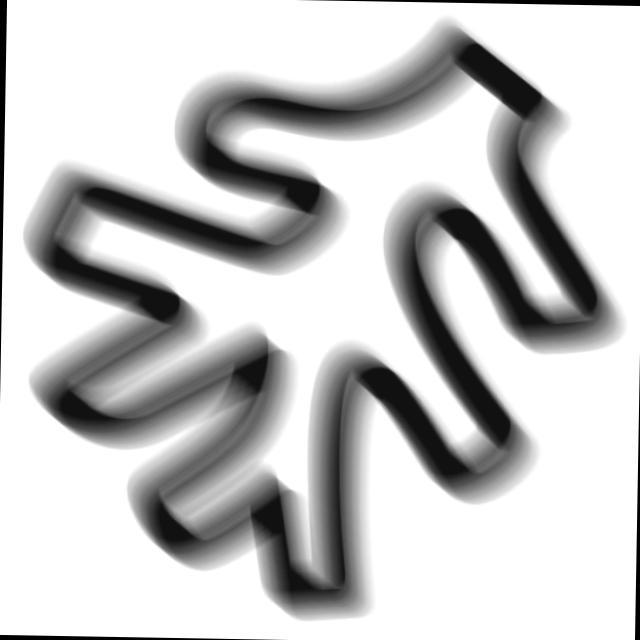coral: (9, 1, 638, 637)
